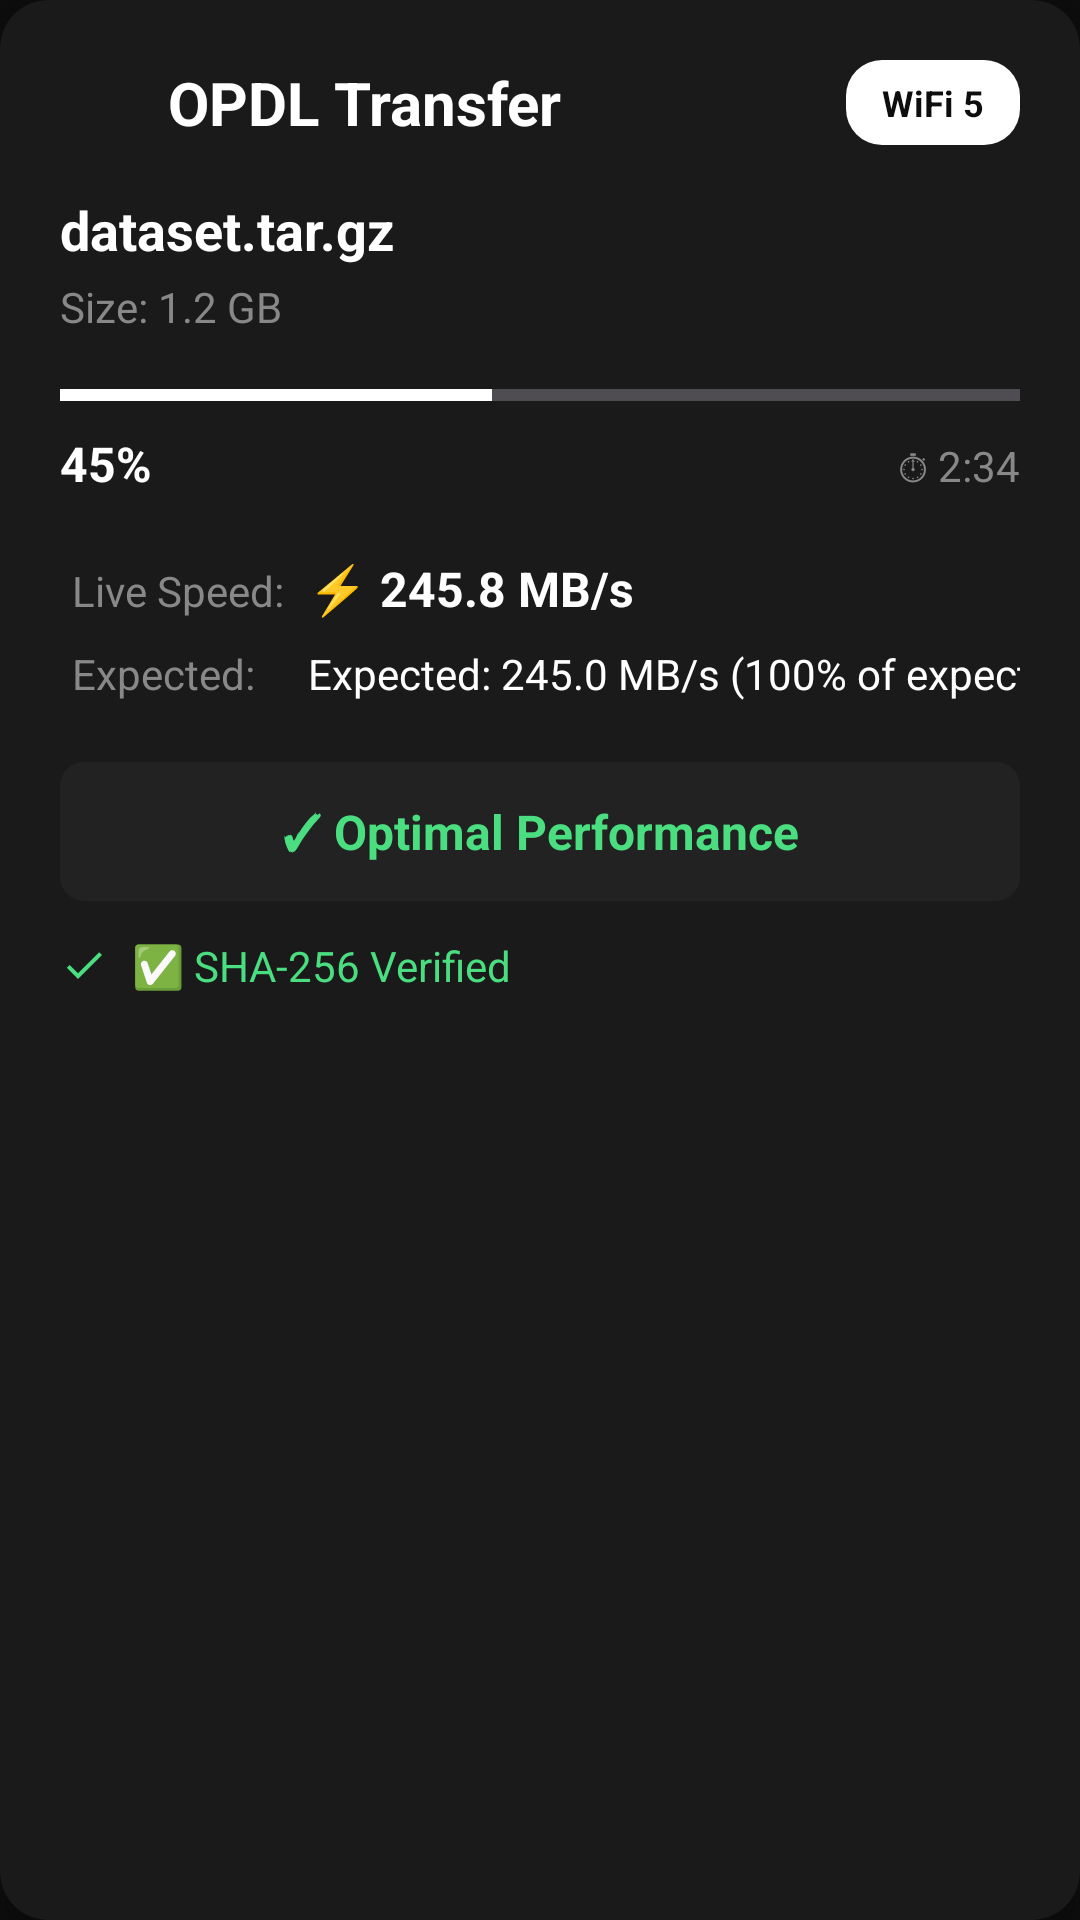

Icons on this 1080*1920 Android screen, each with the point to tap as [x,y]:
check: [84,965]
